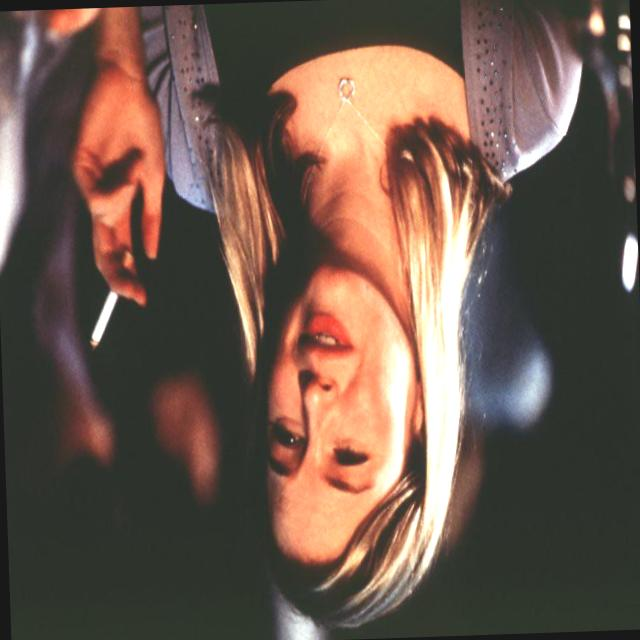smoke: (68, 198, 143, 360)
